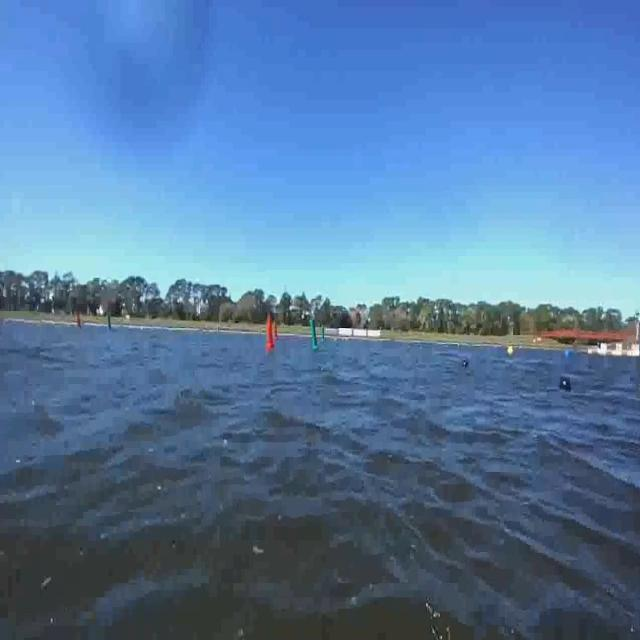black-buoy: (559, 375, 572, 392), (462, 360, 468, 368)
green-column-buoy: (308, 321, 318, 353), (106, 312, 114, 331), (321, 325, 326, 340)
red-column-buoy: (268, 317, 276, 348), (75, 310, 83, 330)
yellow-buoy: (505, 345, 514, 359)
